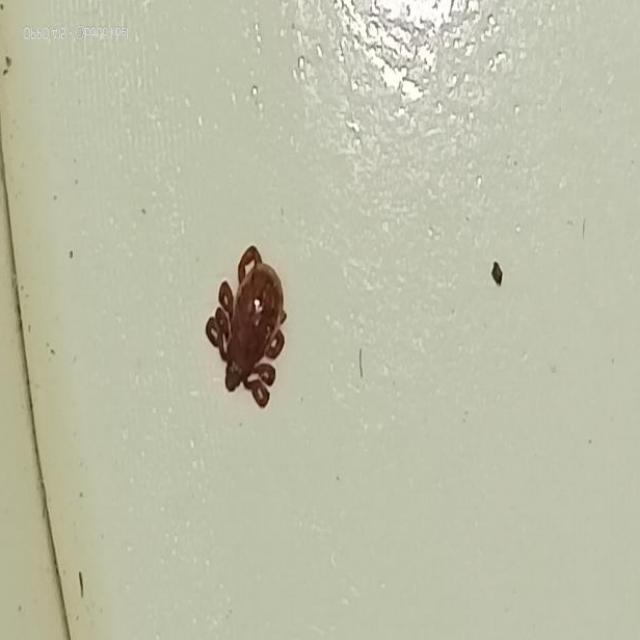Rhipicephalus Sanguineus-M: (203, 244, 288, 407)
